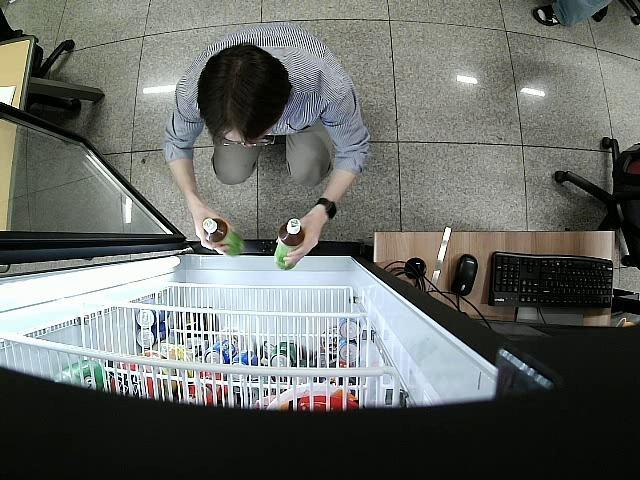19_17cha: (201, 218, 244, 260), (273, 218, 305, 269)
